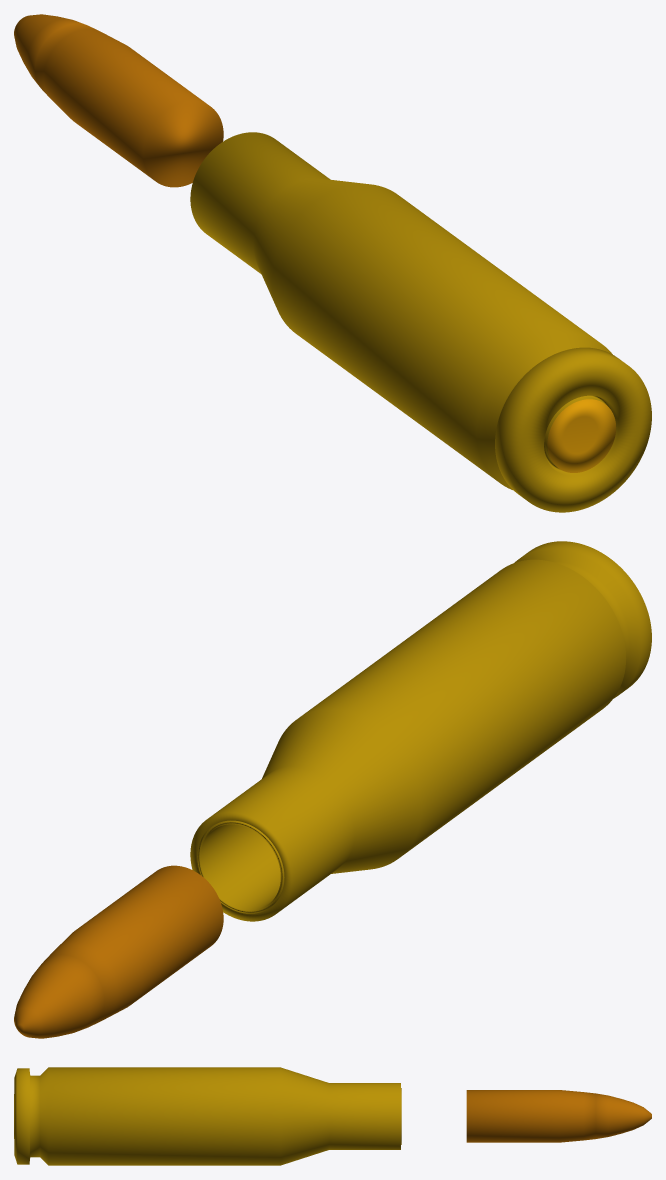
Rendered from bullet.fbx.
3 views of the same model, one above another, from view 1: azimuth 30°, elevation 25°; view 2: azimuth 150°, elevation 25°; view 3: azimuth 270°, elevation 25° (orthographic). The views are drawn at different scales.
Visible parts, largest first — view 1: Casing, Bullet; view 2: Casing, Bullet; view 3: Casing, Bullet.
Part boxes in pixels (x1,y1,x2,y2): Casing: (190, 132, 651, 512); Bullet: (14, 14, 223, 187); Casing: (190, 541, 651, 921); Bullet: (14, 865, 223, 1038); Casing: (14, 1067, 401, 1165); Bullet: (466, 1090, 651, 1142).
Size of the model in its own units: 81.82 by 81.82 by 532.
